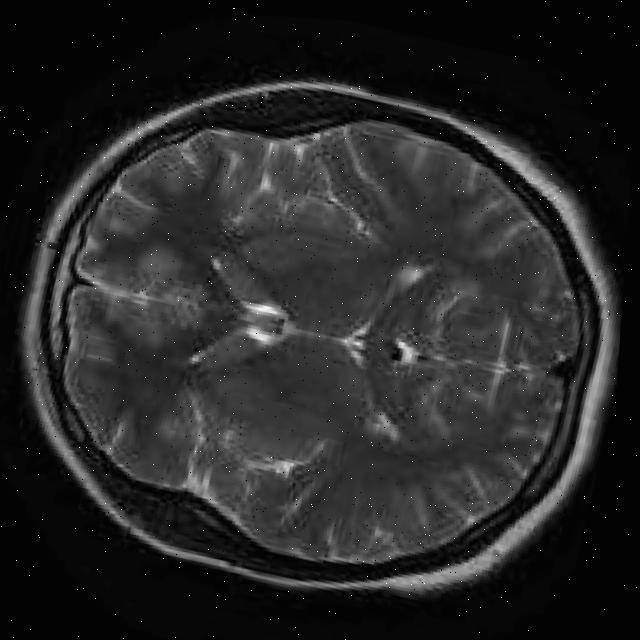NoTumor: (11, 50, 630, 618)
